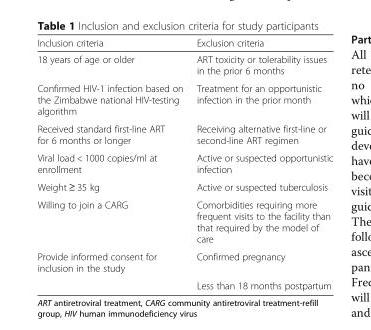table: (36, 36, 332, 290)
table column: (36, 36, 189, 290), (189, 36, 332, 290)
table column header: (36, 36, 332, 50)
table row: (36, 195, 332, 247), (36, 79, 332, 119), (36, 50, 332, 79), (36, 119, 332, 148), (36, 148, 332, 177), (36, 247, 332, 276), (36, 177, 332, 195), (36, 36, 332, 50), (36, 276, 332, 290)
table spanning cell: (36, 247, 189, 290)
